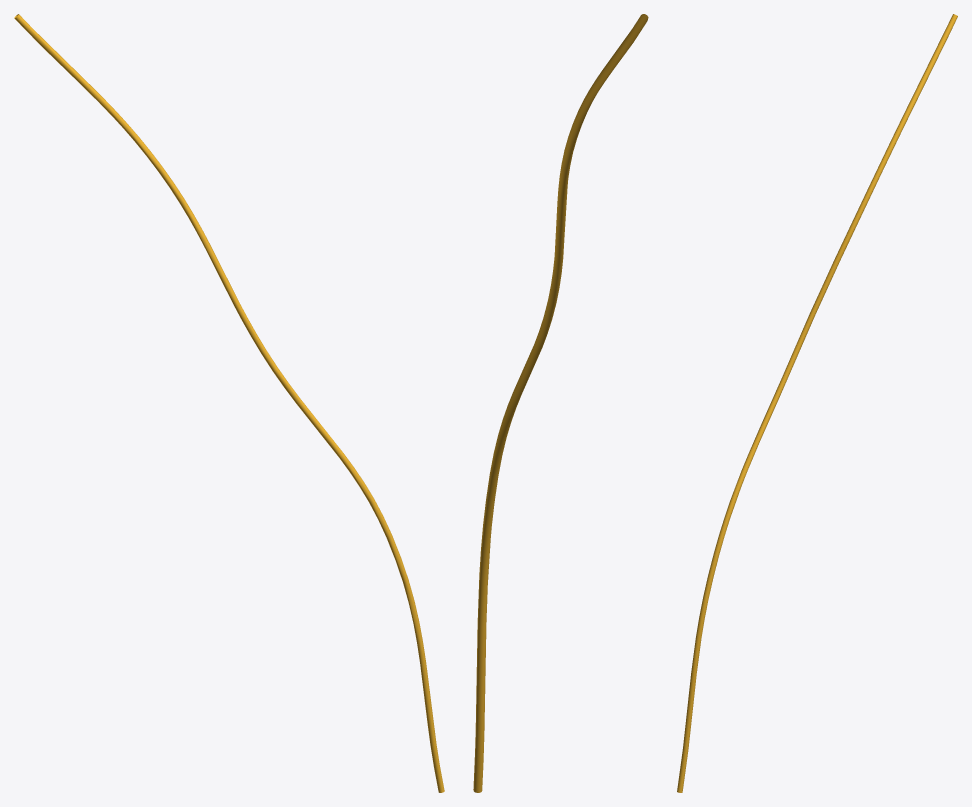
File: nervoso-palmar-branch-of-ulnar-nerve-l.glb
The picture shows the model from 3 angles, left to right: view 1: azimuth 30°, elevation 25°; view 2: azimuth 150°, elevation 25°; view 3: azimuth 270°, elevation 25°; orthographic projection. The views are drawn at different scales.
Visible parts, largest first — view 1: Palmar branch of ulnar nerve.l; view 2: Palmar branch of ulnar nerve.l; view 3: Palmar branch of ulnar nerve.l.
Part boxes in pixels (x1=…): Palmar branch of ulnar nerve.l: x1=14, y1=14, x2=444, y2=792; Palmar branch of ulnar nerve.l: x1=473, y1=14, x2=648, y2=792; Palmar branch of ulnar nerve.l: x1=677, y1=14, x2=957, y2=792.
Bounding box in the file's own units: 0.0502 × 0.1267 × 0.0489.
